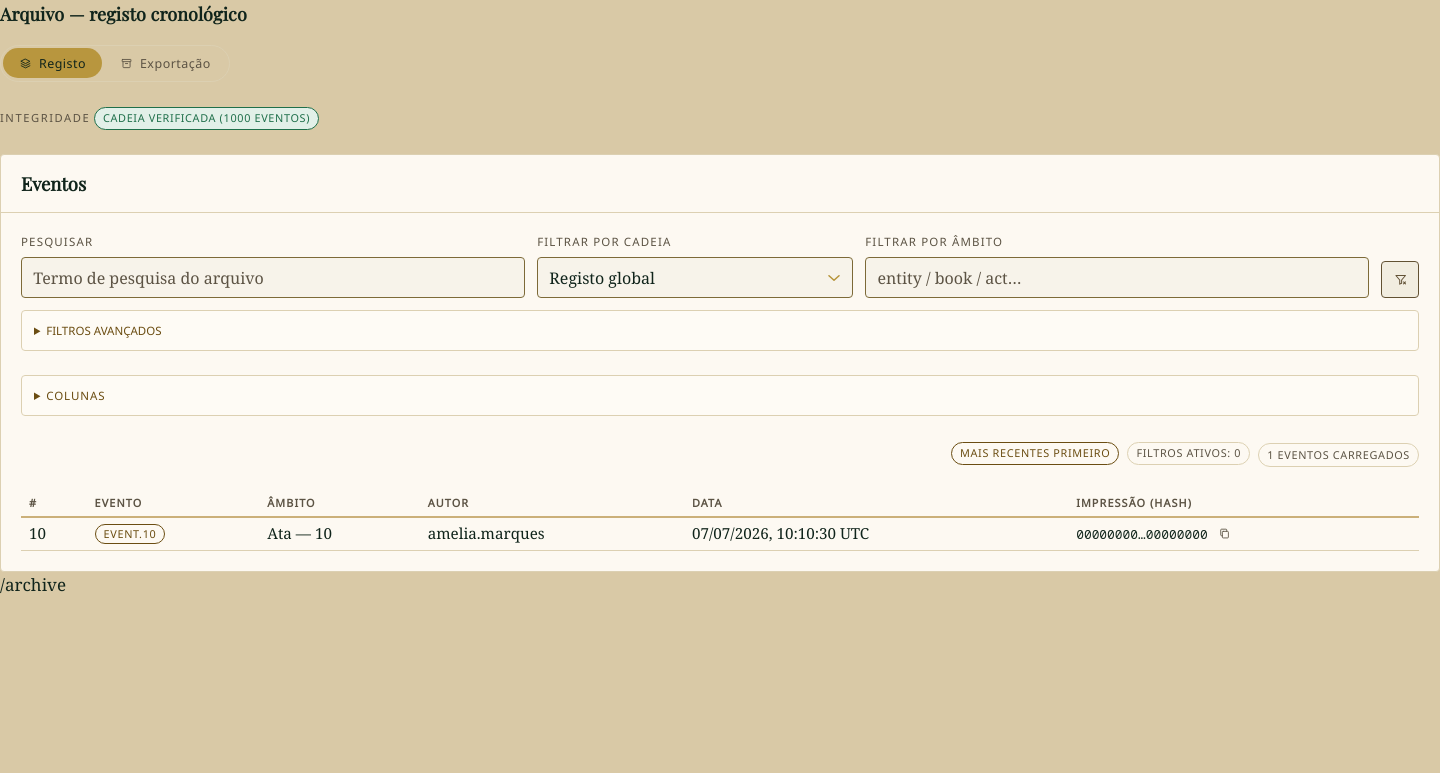
it: LedgerPage — sub-tabs › writes the section segment when leaving Registo and drops it on the way back
Check: the text "event.10" is shown, box [104, 526, 156, 541]
Click the button "Exportação" at (166, 64), box [104, 49, 227, 79]
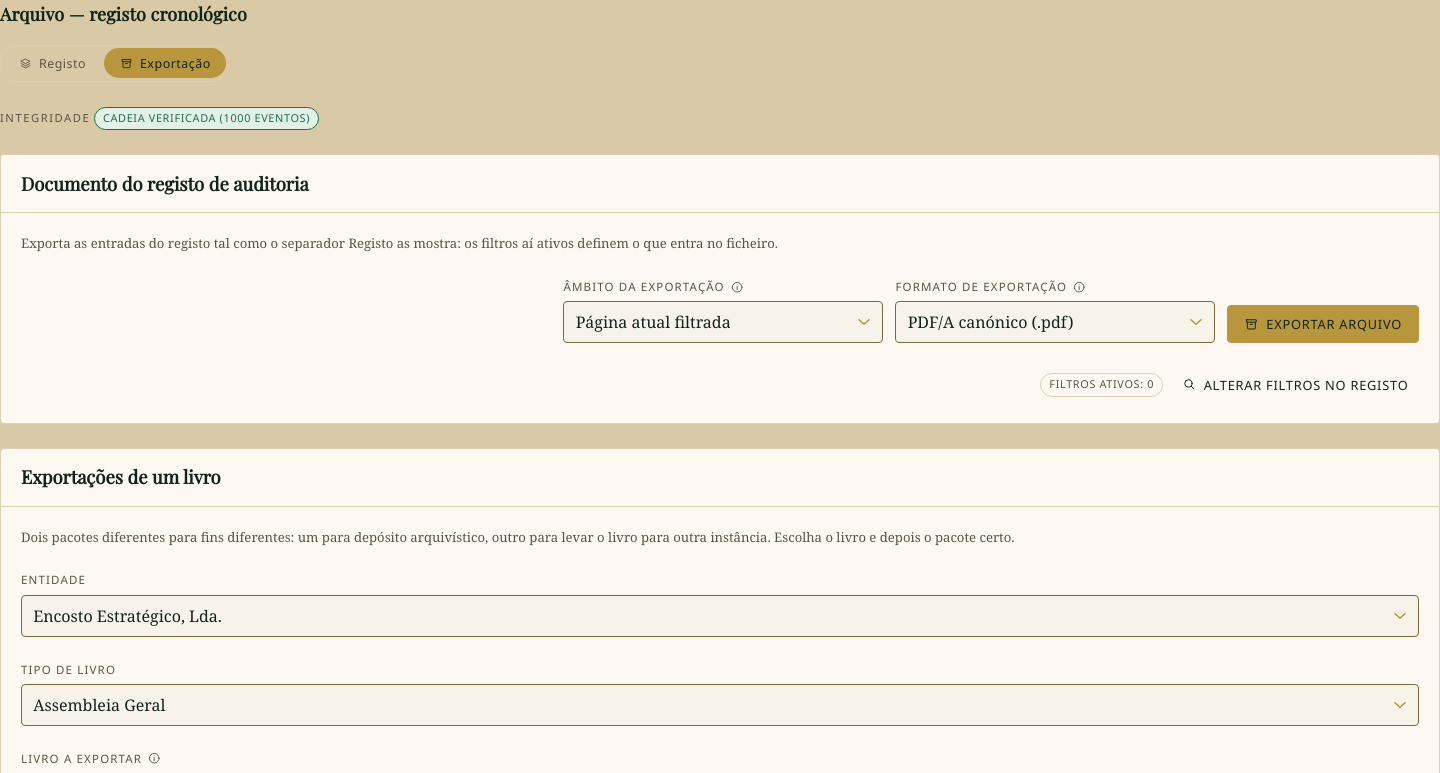
Click the button "Registo" at (53, 64), box [3, 49, 102, 79]
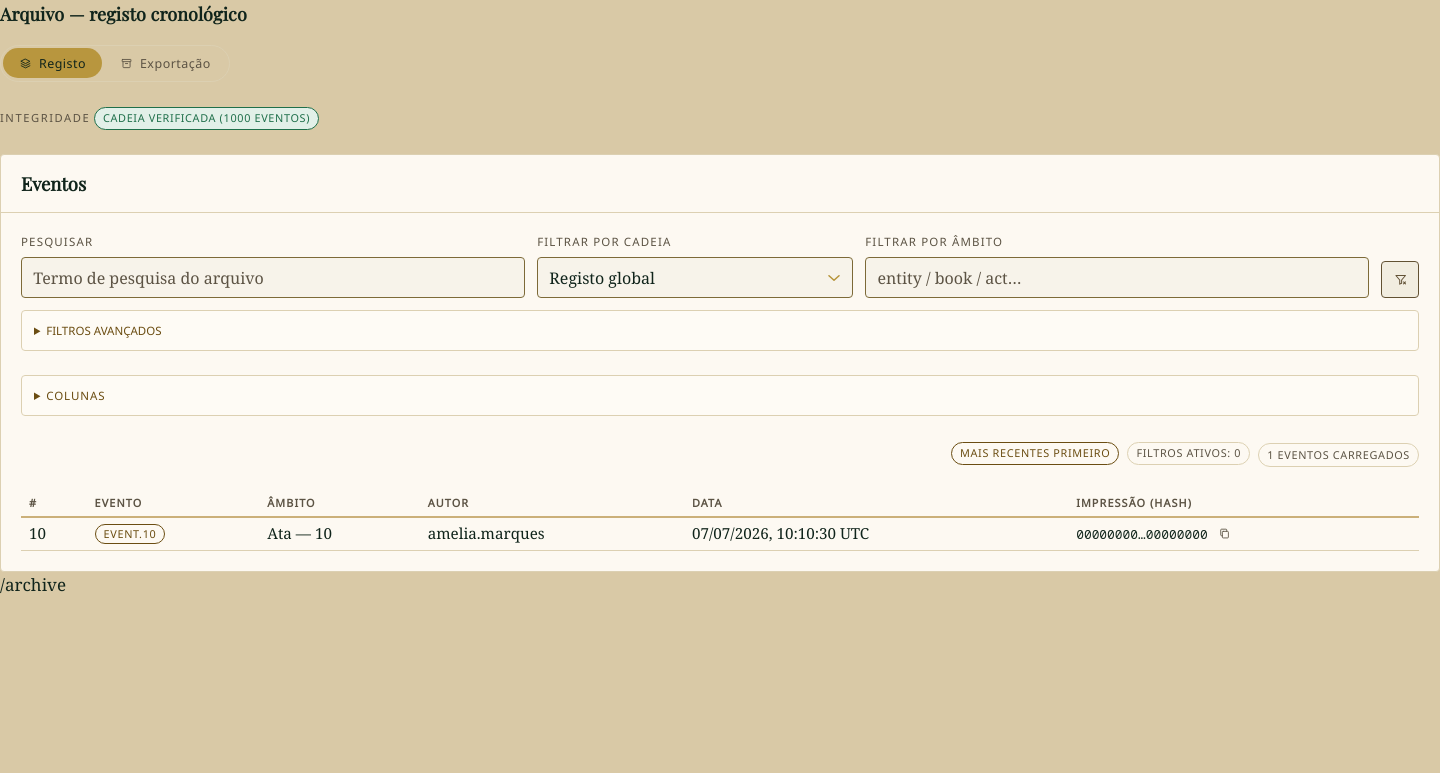
Check: the text with test id "location" reads "/archive", box [0, 573, 66, 596]
